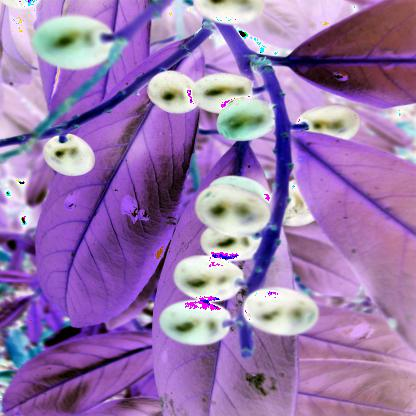cherry leaf: (15, 65, 194, 326), (289, 125, 416, 357), (0, 332, 174, 414), (283, 8, 416, 102)
